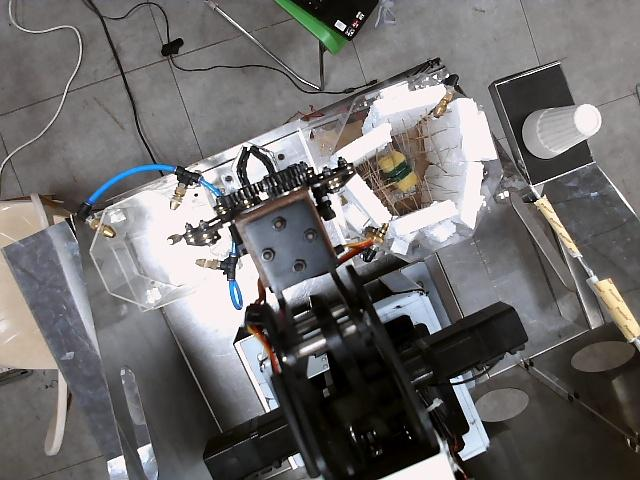cup: (523, 105, 601, 158)
